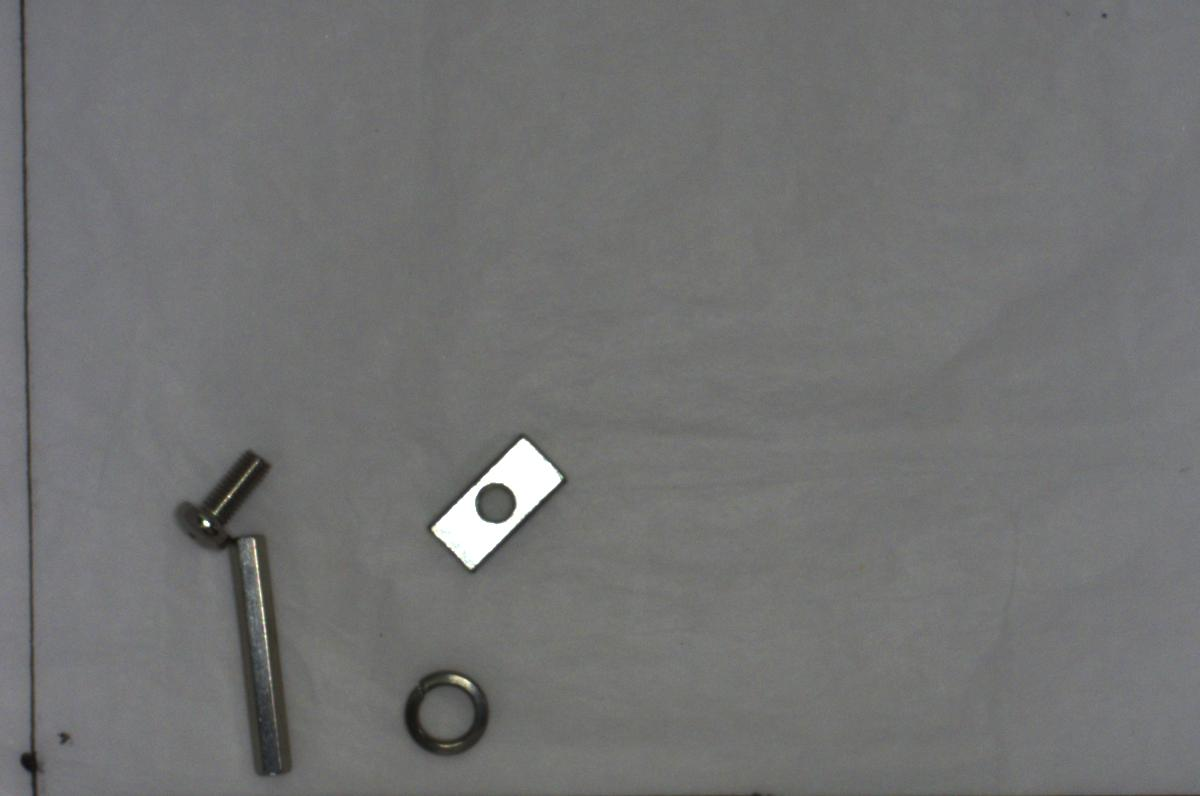Double hexagonal column: (221, 530, 295, 781)
Rectangular nut: (420, 435, 568, 569)
Round head screw: (168, 446, 280, 556)
Spring washer: (397, 667, 492, 759)
